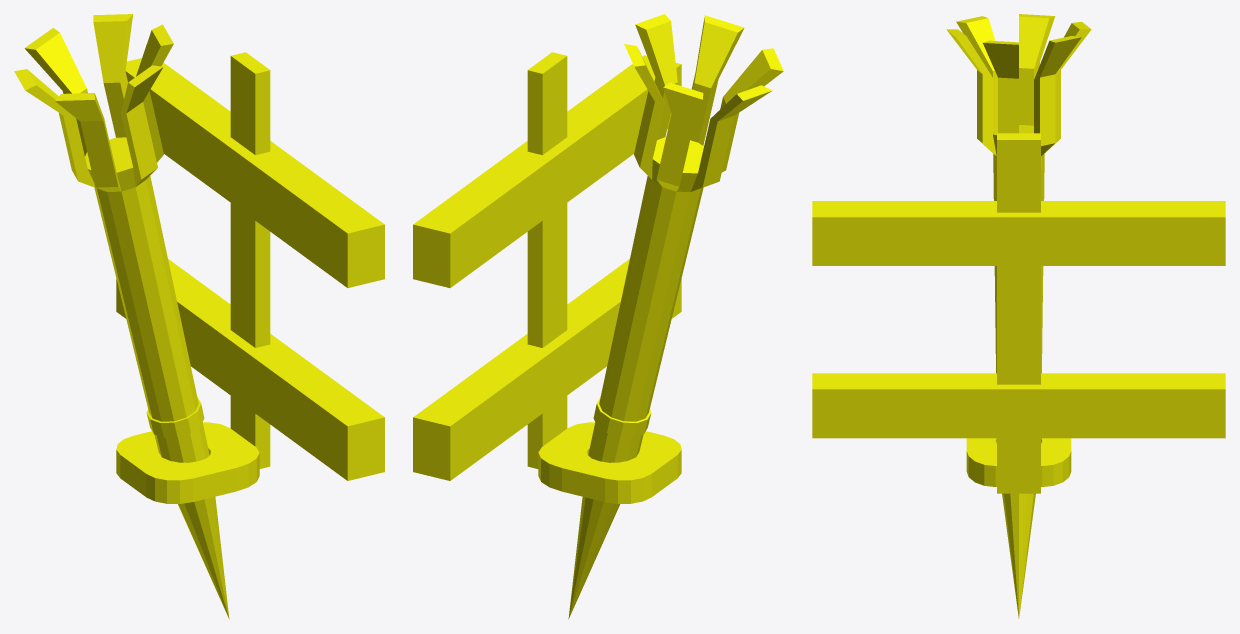
The model's file is LightWallTorch.glb.
The picture shows the model from 3 angles, left to right: view 1: azimuth 30°, elevation 25°; view 2: azimuth 150°, elevation 25°; view 3: azimuth 270°, elevation 25°; orthographic projection. The views are drawn at different scales.
Visible parts, largest first — view 1: Torch; view 2: Torch; view 3: Torch.
Boxes of the visible parts, box(x1,y1,x2,y2) form: Torch: box(14, 14, 384, 619); Torch: box(413, 14, 783, 619); Torch: box(812, 14, 1225, 618).
Bounding box in the file's own units: 0.2518 × 0.6035 × 0.4138.
Materials: 1 (1 with a texture image).
